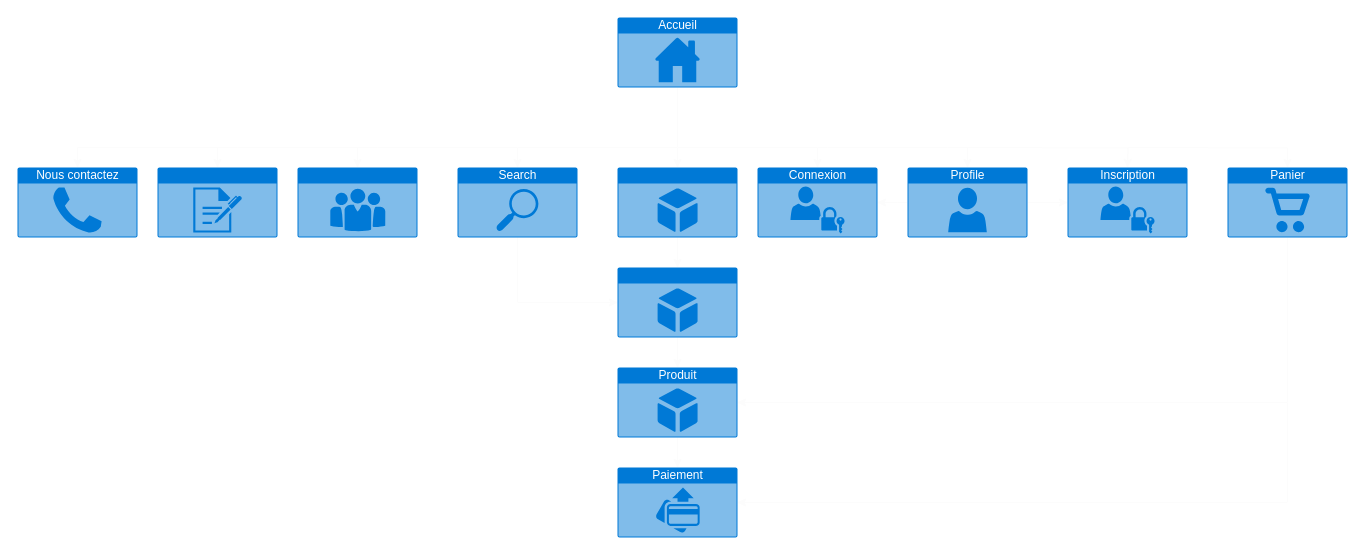
This 1364x554 diagram has some shape labels left out. The shapes that lost their labels are listed below. From the top down, each one's centre as x and y in pixels, then its label:
the point at 217,202: Mentions légales
the point at 357,202: Qui sommez-nos
the point at 677,202: Categorie
the point at 677,302: Sous-Categorie
